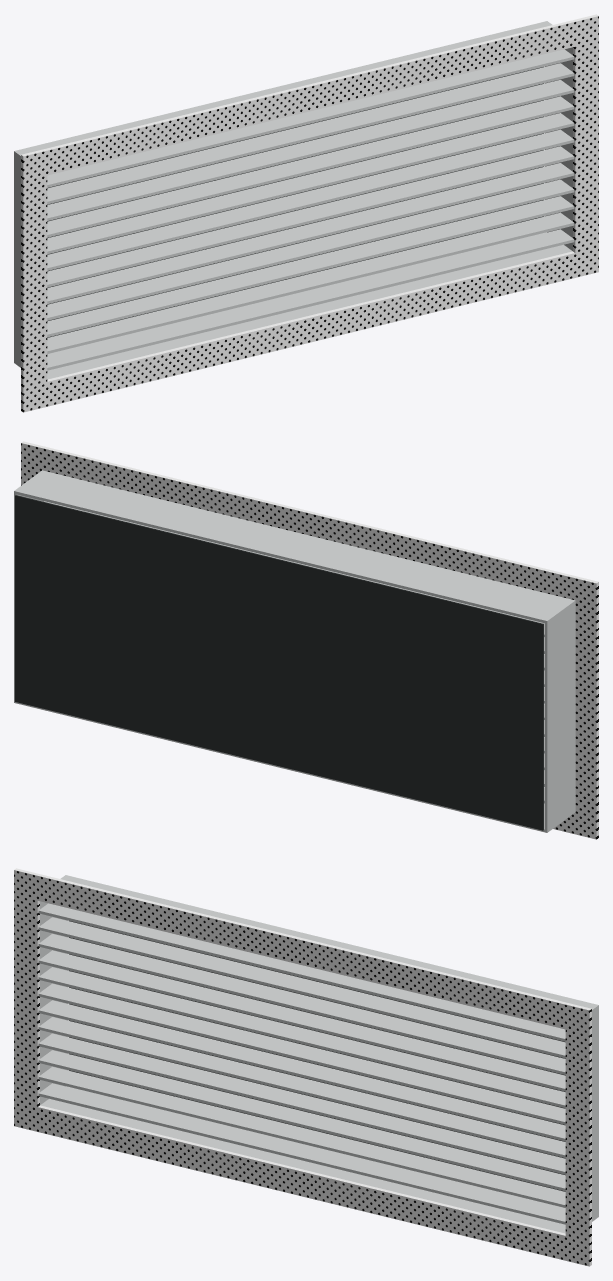
Rendered from ecoclima-ebls-400x150.glb.
3 views of the same model, one above another, from view 1: azimuth 30°, elevation 25°; view 2: azimuth 150°, elevation 25°; view 3: azimuth 330°, elevation 25° (orthographic).
Visible parts, largest first — view 1: Profile_cornice.004, Profile_cornice.005, Profile_barra.010, Profile_barra.013, Profile_barra.015, Profile_barra.017, Profile_barra.020, Profile_barra.012, Profile_barra.019, Profile_barra.011, Profile_barra.018, Profile_barra.016 (+9 smaller); view 2: Interno.001, Profile_ritorno.004, Profile_cornice.004, Profile_ritorno.006, Profile_cornice.006, Profile_ritorno.005, Profile_cornice.005, Profile_barra.020; view 3: Profile_cornice.004, Profile_cornice.005, Profile_barra.010, Profile_barra.013, Profile_barra.015, Profile_barra.017, Profile_barra.020, Profile_barra.012, Profile_barra.019, Profile_barra.011, Profile_barra.018, Profile_barra.016 (+9 smaller).
Part boxes in pixels (x1,y1,x2,y2): Profile_cornice.004: (21,14,598,181); Profile_cornice.005: (21,247,598,412); Profile_barra.010: (47,229,574,370); Profile_barra.013: (47,179,574,320); Profile_barra.015: (47,146,574,287); Profile_barra.017: (47,113,574,254); Profile_barra.020: (47,63,574,204); Profile_barra.012: (47,196,574,337); Profile_barra.019: (47,80,574,220); Profile_barra.011: (47,212,574,353); Profile_barra.018: (47,96,574,237); Profile_barra.016: (47,129,574,270); Interno.001: (15,495,543,830); Profile_ritorno.004: (14,470,575,623); Profile_cornice.004: (21,441,598,608); Profile_ritorno.006: (544,603,575,829); Profile_cornice.006: (575,603,598,814); Profile_ritorno.005: (14,700,575,832); Profile_cornice.005: (553,809,598,839); Profile_barra.020: (44,501,544,637); Profile_cornice.004: (14,868,591,1035); Profile_cornice.005: (14,1101,591,1266); Profile_barra.010: (38,1083,565,1224); Profile_barra.013: (38,1033,565,1174); Profile_barra.015: (38,1000,565,1141); Profile_barra.017: (38,967,565,1108); Profile_barra.020: (38,917,565,1058); Profile_barra.012: (38,1050,565,1191); Profile_barra.019: (38,934,565,1074); Profile_barra.011: (38,1066,565,1207); Profile_barra.018: (38,950,565,1091); Profile_barra.016: (38,983,565,1124).
Bounding box in the file's own units: 0.435 × 0.185 × 0.042.
Materials: 3 (1 with a texture image).
